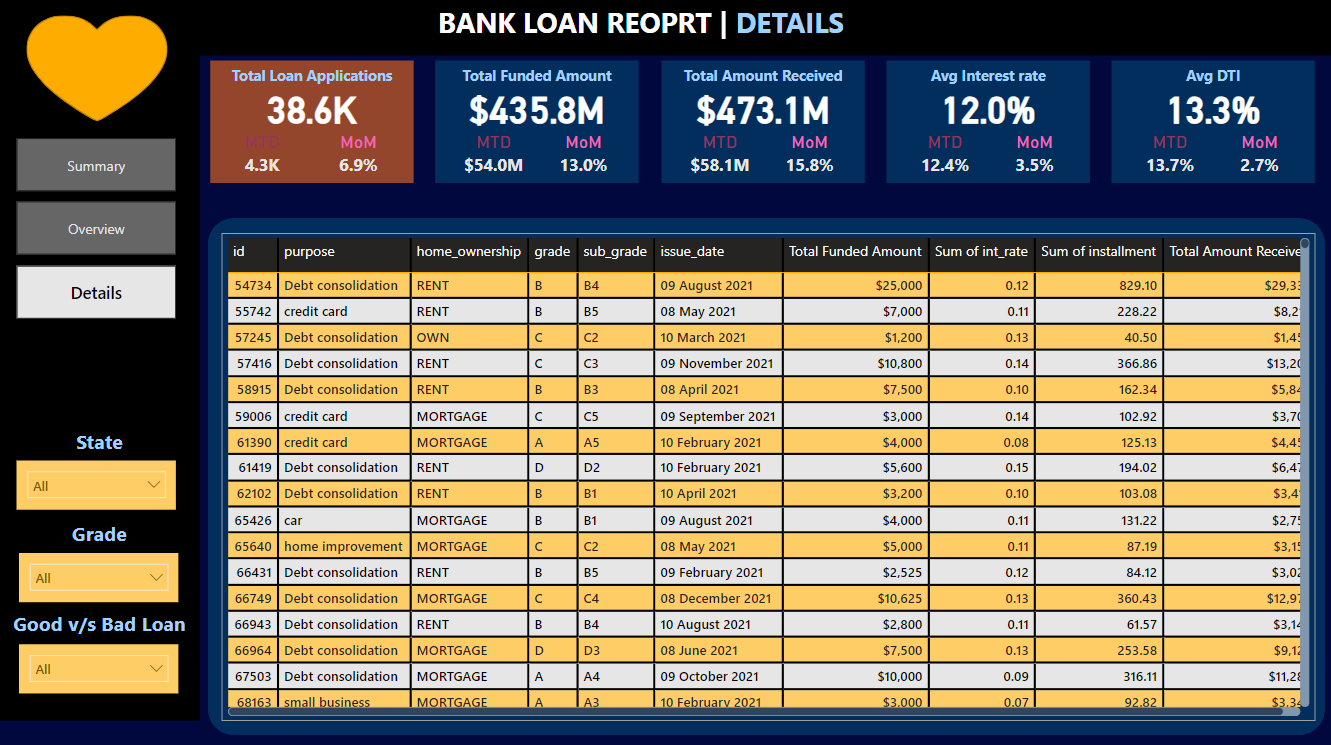

Layout of this report page (visuals, bound fields, positions):
{"tool":"powerbi","page":{"name":"Details","canvas":[1280,720],"ordinal":2},"visuals":[{"type":"shape","title":"cassa","box":[0,28.4,192.6,664.2],"z":0},{"type":"shape","box":[202.5,60,195,117.5],"z":0,"group":"g1"},{"type":"shape","box":[418.7,60,195,117.5],"z":0,"group":"g2"},{"type":"shape","box":[635,60,195,117.5],"z":0,"group":"g3"},{"type":"shape","box":[851.2,60.3,195,117.5],"z":0,"group":"g4"},{"type":"shape","box":[1066.7,60.5,195,117.5],"z":0,"group":"g5"},{"type":"shape","box":[0,0,1280,55],"z":1000},{"type":"card","fields":{"Values":["bank_loan_data.Total Loan Applications"]},"box":[202.5,80,195,48.8],"z":1000,"group":"g1"},{"type":"card","fields":{"Values":["bank_loan_data.Total Funded Amount"]},"box":[418.7,80,195,48.8],"z":1000,"group":"g2"},{"type":"card","fields":{"Values":["bank_loan_data.Total Amount Received"]},"box":[635,80,195,48.8],"z":1000,"group":"g3"},{"type":"card","fields":{"Values":["bank_loan_data.Avg Interest Rate"]},"box":[851.2,80.3,195,48.8],"z":1000,"group":"g4"},{"type":"card","fields":{"Values":["bank_loan_data.Avg DTI"]},"box":[1066.7,80.5,195,48.8],"z":1000,"group":"g5"},{"type":"textbox","box":[202.5,60,195,40],"z":2000,"group":"g1"},{"type":"textbox","box":[418.7,60,195,40],"z":2000,"group":"g2"},{"type":"textbox","box":[635,60,195,40],"z":2000,"group":"g3"},{"type":"textbox","box":[851.2,60.3,195,40],"z":2000,"group":"g4"},{"type":"textbox","box":[1066.7,60.5,195,40],"z":2000,"group":"g5"},{"type":"shape","box":[200.3,211.1,1071.3,495.8],"z":2000},{"type":"textbox","box":[416.2,0,447.5,55],"z":3000},{"type":"card","title":"MTD","fields":{"Values":["bank_loan_data.MTD Loan Applications"]},"box":[222.5,128.8,58.8,46.2],"z":3000,"group":"g1"},{"type":"card","title":"MTD","fields":{"Values":["bank_loan_data.MTD Funded Amount"]},"box":[438.4,128.8,73.8,46.2],"z":3000,"group":"g2"},{"type":"card","title":"MTD","fields":{"Values":["bank_loan_data.MTD Total Amount Received"]},"box":[654.7,128.8,73.8,46.2],"z":3000,"group":"g3"},{"type":"card","title":"MTD","fields":{"Values":["bank_loan_data.MTD Avg Int Rate"]},"box":[870.9,129.1,73.8,46.2],"z":3000,"group":"g4"},{"type":"card","title":"MTD","fields":{"Values":["bank_loan_data.MTD Avg DTI"]},"box":[1086.4,129.3,73.8,46.2],"z":3000,"group":"g5"},{"type":"group","id":"g1","title":"Group 1","box":[202.5,60,195,117.5],"z":4000},{"type":"card","title":"MoM","fields":{"Values":["bank_loan_data.MoM Loan Application"]},"box":[315,128.8,58.8,46.2],"z":4000,"group":"g1"},{"type":"card","title":"MoM","fields":{"Values":["bank_loan_data.MoM Total Funded Amount"]},"box":[531.2,128.8,58.8,46.2],"z":4000,"group":"g2"},{"type":"card","title":"MoM","fields":{"Values":["bank_loan_data.MoM Total Amount Received"]},"box":[747.5,128.8,58.8,46.2],"z":4000,"group":"g3"},{"type":"card","title":"MoM","fields":{"Values":["bank_loan_data.MoM Avg Int Rate"]},"box":[963.7,129.1,58.8,46.2],"z":4000,"group":"g4"},{"type":"card","title":"MoM","fields":{"Values":["bank_loan_data.MoM Avg DTI"]},"box":[1179.2,129.3,58.8,46.2],"z":4000,"group":"g5"},{"type":"group","id":"g2","title":"Group 1","box":[418.7,60,195,117.5],"z":5000},{"type":"group","id":"g3","title":"Group 1","box":[635,60,195,117.5],"z":6000},{"type":"group","id":"g4","title":"Group 1","box":[851.2,60.3,194.2,117],"z":7000},{"type":"group","id":"g5","title":"Group 2","box":[1066.7,60.5,195,117.5],"z":8000},{"type":"slicer","fields":{"Values":["bank_loan_data.address_state"]},"box":[17.3,443.2,153.1,46.9],"z":9000},{"type":"textbox","box":[0,407.4,192.6,35.8],"z":10000},{"type":"slicer","fields":{"Values":["bank_loan_data.grade"]},"box":[19.8,532.1,153.1,46.9],"z":11000},{"type":"textbox","box":[0,496.3,192.6,35.8],"z":12000},{"type":"slicer","fields":{"Values":["bank_loan_data.Good v/s Bad Loans"]},"box":[19.8,619.8,153.1,46.9],"z":13000},{"type":"textbox","box":[0,582.7,192.6,35.8],"z":14000},{"type":"tableEx","fields":{"Values":["bank_loan_data.id","bank_loan_data.purpose","bank_loan_data.home_ownership","bank_loan_data.grade","bank_loan_data.sub_grade","bank_loan_data.issue_date","bank_loan_data.Total Funded Amount","Sum(bank_loan_data.int_rate)","Sum(bank_loan_data.installment)","bank_loan_data.Total Amount Received"]},"box":[213.5,225.6,1048.4,468.1],"z":15000},{"type":"pageNavigator","box":[16.9,133.9,153.2,174.9],"z":16000},{"type":"shape","box":[26.5,16.9,135.1,101.3],"z":17000}]}

Visuals, with their boxes in screenshot pixels (x1, y1, x2, y2), scaled from the page's 1280x720 canvas onto the 1331x745 screenshot:
"cassa" shape: rect(0, 29, 200, 717)
shape: rect(211, 62, 413, 184)
shape: rect(435, 62, 638, 184)
shape: rect(660, 62, 863, 184)
shape: rect(885, 62, 1088, 184)
shape: rect(1109, 63, 1312, 184)
shape: rect(0, 0, 1330, 57)
card - bank_loan_data.Total Loan Applications: rect(211, 83, 413, 133)
card - bank_loan_data.Total Funded Amount: rect(435, 83, 638, 133)
card - bank_loan_data.Total Amount Received: rect(660, 83, 863, 133)
card - bank_loan_data.Avg Interest Rate: rect(885, 83, 1088, 134)
card - bank_loan_data.Avg DTI: rect(1109, 83, 1312, 134)
textbox: rect(211, 62, 413, 103)
textbox: rect(435, 62, 638, 103)
textbox: rect(660, 62, 863, 103)
textbox: rect(885, 62, 1088, 104)
textbox: rect(1109, 63, 1312, 104)
shape: rect(208, 218, 1322, 731)
textbox: rect(433, 0, 898, 57)
"MTD" card: rect(231, 133, 293, 181)
"MTD" card: rect(456, 133, 533, 181)
"MTD" card: rect(681, 133, 758, 181)
"MTD" card: rect(906, 134, 982, 181)
"MTD" card: rect(1130, 134, 1206, 182)
"Group 1" group: rect(211, 62, 413, 184)
"MoM" card: rect(328, 133, 389, 181)
"MoM" card: rect(552, 133, 614, 181)
"MoM" card: rect(777, 133, 838, 181)
"MoM" card: rect(1002, 134, 1063, 181)
"MoM" card: rect(1226, 134, 1287, 182)
"Group 1" group: rect(435, 62, 638, 184)
"Group 1" group: rect(660, 62, 863, 184)
"Group 1" group: rect(885, 62, 1087, 183)
"Group 2" group: rect(1109, 63, 1312, 184)
slicer - bank_loan_data.address_state: rect(18, 459, 177, 507)
textbox: rect(0, 422, 200, 459)
slicer - bank_loan_data.grade: rect(21, 551, 180, 599)
textbox: rect(0, 514, 200, 551)
slicer - bank_loan_data.Good v/s Bad Loans: rect(21, 641, 180, 690)
textbox: rect(0, 603, 200, 640)
tableEx - bank_loan_data.id x bank_loan_data.purpose: rect(222, 233, 1312, 718)
pageNavigator: rect(18, 139, 177, 320)
shape: rect(28, 17, 168, 122)
